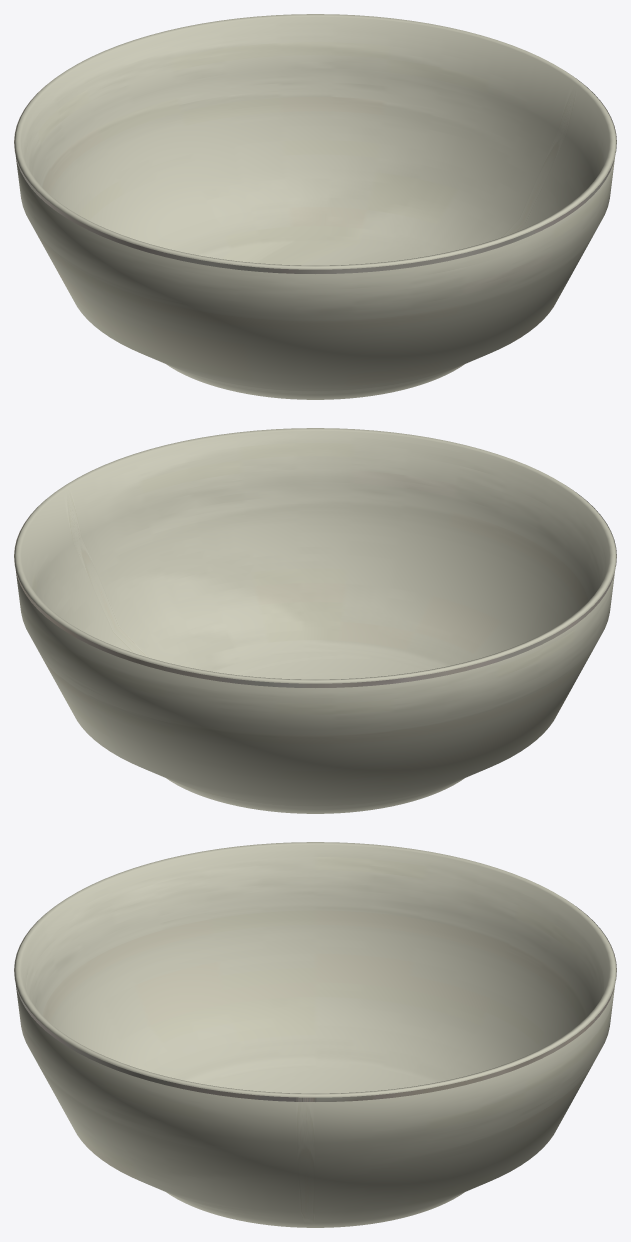
The model's file is dishware__serving_bowl.glb.
The picture shows the model from 3 angles, top to bottom: view 1: azimuth 30°, elevation 25°; view 2: azimuth 150°, elevation 25°; view 3: azimuth 270°, elevation 25°; orthographic projection.
Visible parts, largest first — view 1: body; view 2: body; view 3: body.
Boxes of the visible parts, box(x1,y1,x2,y2) form: body: box(14, 14, 616, 399); body: box(14, 428, 616, 813); body: box(14, 842, 616, 1227).
Bounding box in the file's own units: 0.2824 × 0.096 × 0.2824.
2 materials, 2 textured.
